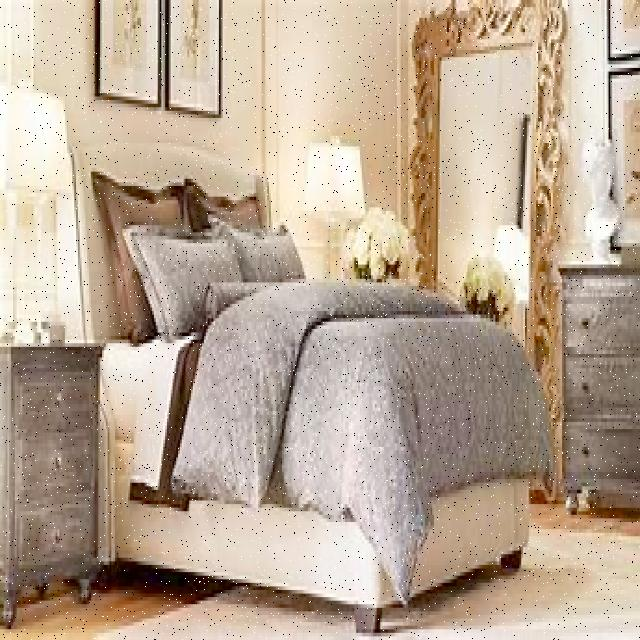bed: (84, 171, 547, 574)
